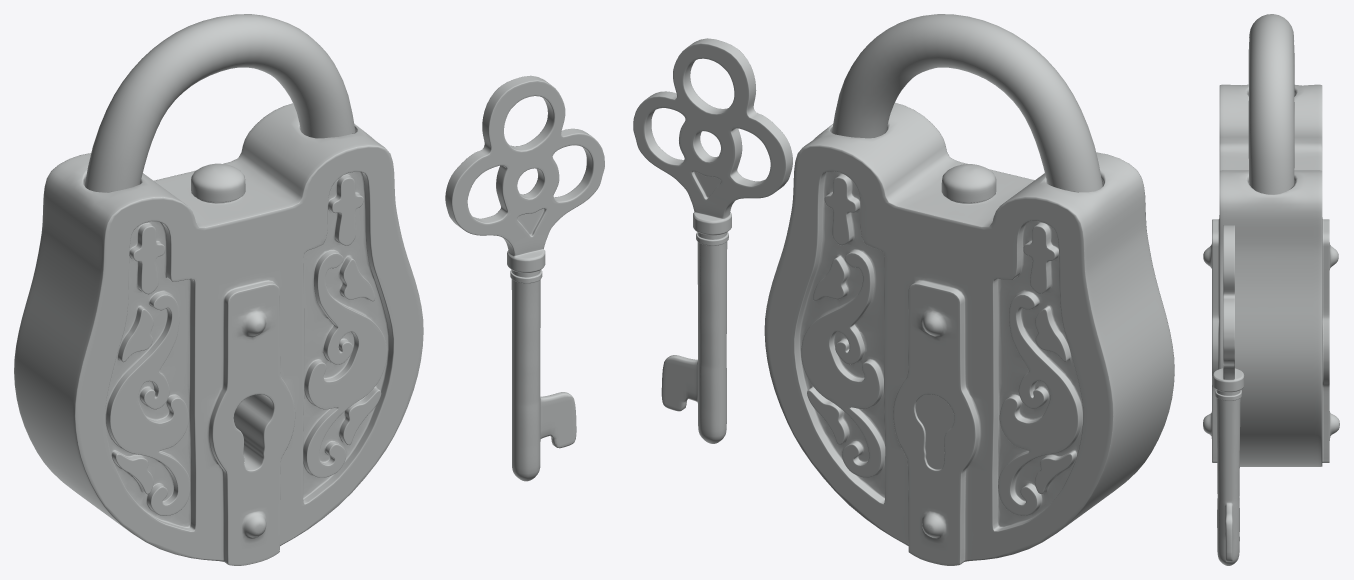
Rendered from Lock and Key.fbx.
3 views of the same model, side by side, from view 1: azimuth 30°, elevation 25°; view 2: azimuth 150°, elevation 25°; view 3: azimuth 270°, elevation 25° (orthographic). The views are drawn at different scales.
Visible parts, largest first — view 1: lock, Key; view 2: lock, Key; view 3: lock, Key.
Part boxes in pixels (x1=…): lock: x1=14, y1=14, x2=423, y2=565; Key: x1=445, y1=75, x2=604, y2=481; lock: x1=764, y1=14, x2=1174, y2=565; Key: x1=633, y1=38, x2=792, y2=443; lock: x1=1203, y1=14, x2=1339, y2=466; Key: x1=1212, y1=225, x2=1244, y2=565.
Bounding box in the file's own units: 34.48 × 32.03 × 9.21.
